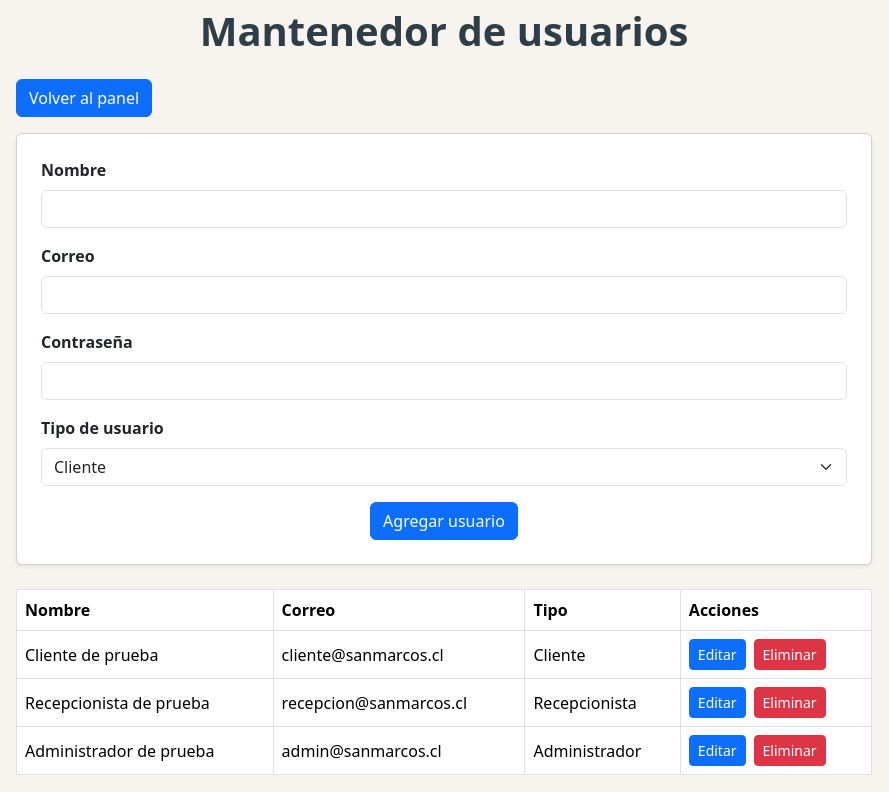
Scenario: elimina un usuario de la tabla
Step 1. Click the button "Eliminar" in the row of "Cliente de prueba" → (790, 654), box [754,639,826,670]
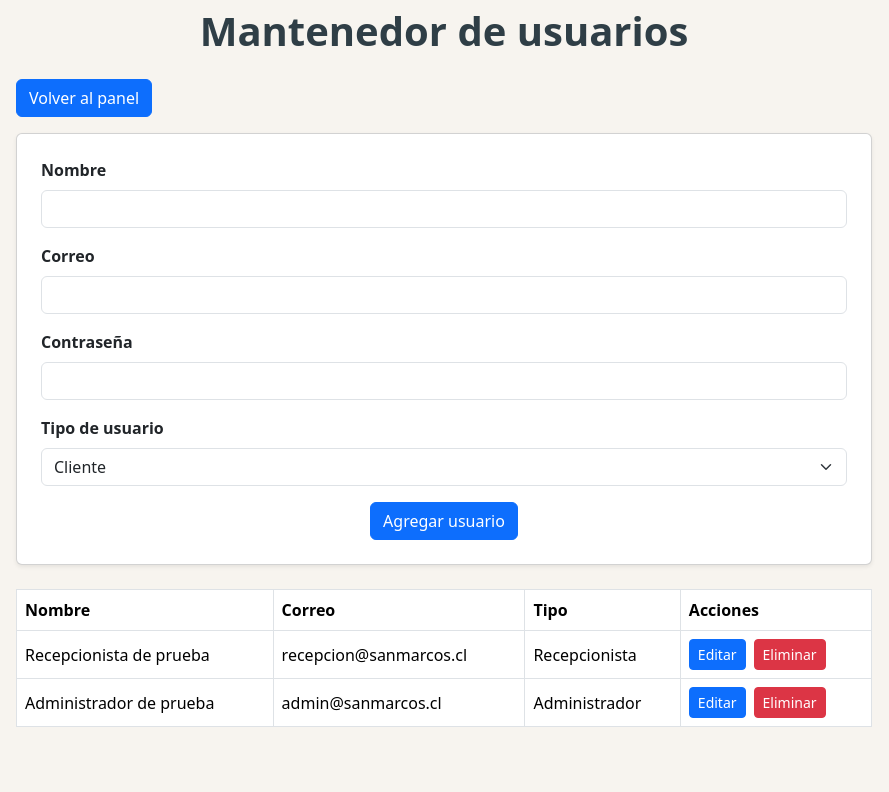
Expected: the text "Cliente de prueba" is gone
Expected: the number of buttons "Eliminar" is 2, [754,639,826,670]; [754,687,826,718]
